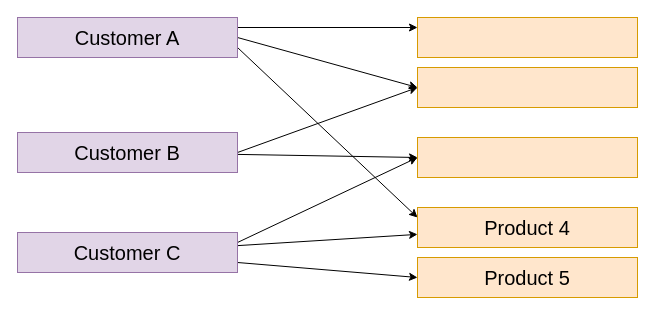
Some shapes in this 655 by 315 pixel diagram are drawn without their labels. The centre of each missing label's shape, as x and y in pixels:
"Product 1" goes at point 527,37.
"Product 2" goes at point 527,87.
"Product 3" goes at point 527,157.
